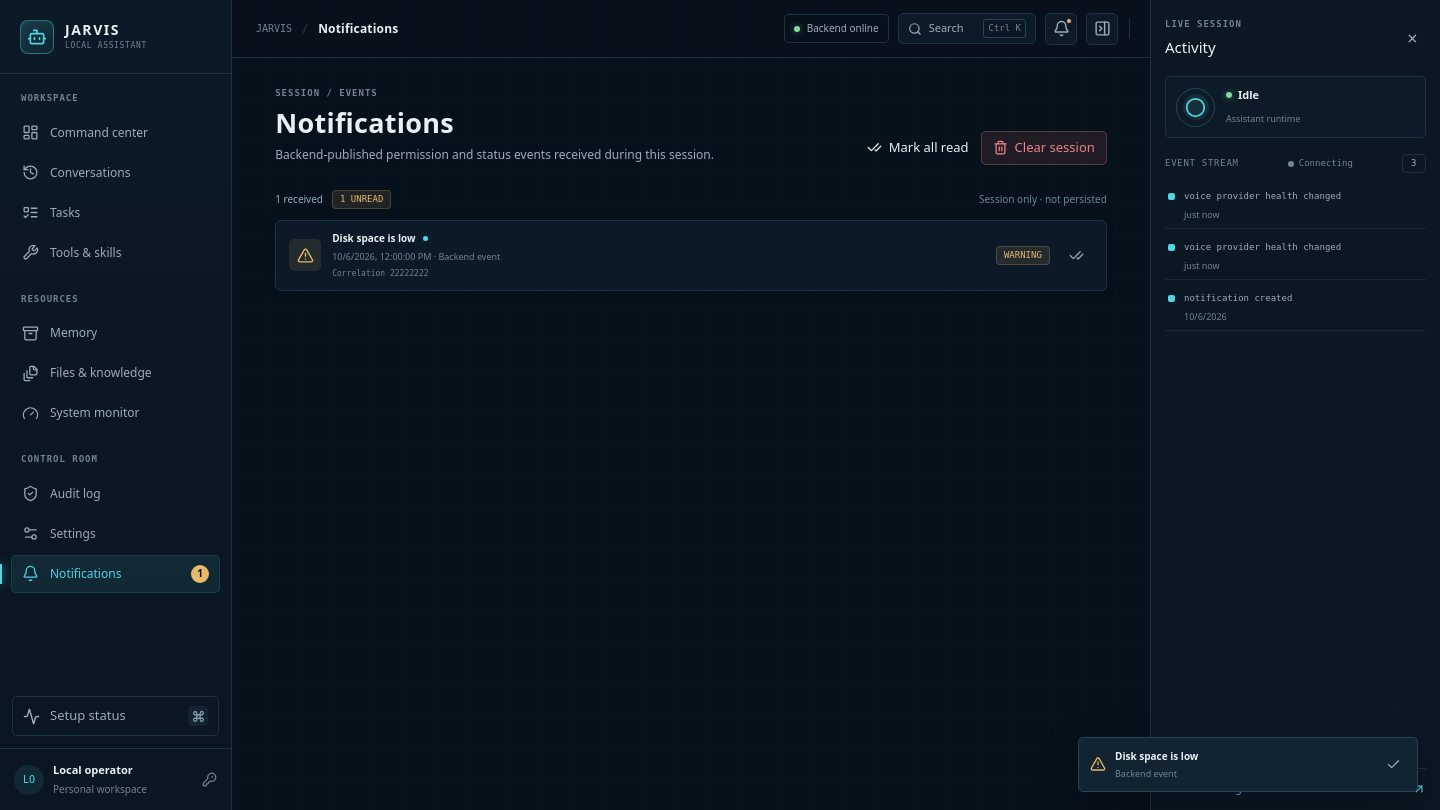
Test case: tools and page controls › creates, reads, and clears session notifications from backend events
Expected: the heading "Notifications" is shown, [275,104,454,140]
Expected: the text "Disk space is low" is shown 2 times, [332,231,416,246]; [1115,748,1198,762]
Click the button "Mark all read".
click(918, 148)  # box [855,131,981,165]
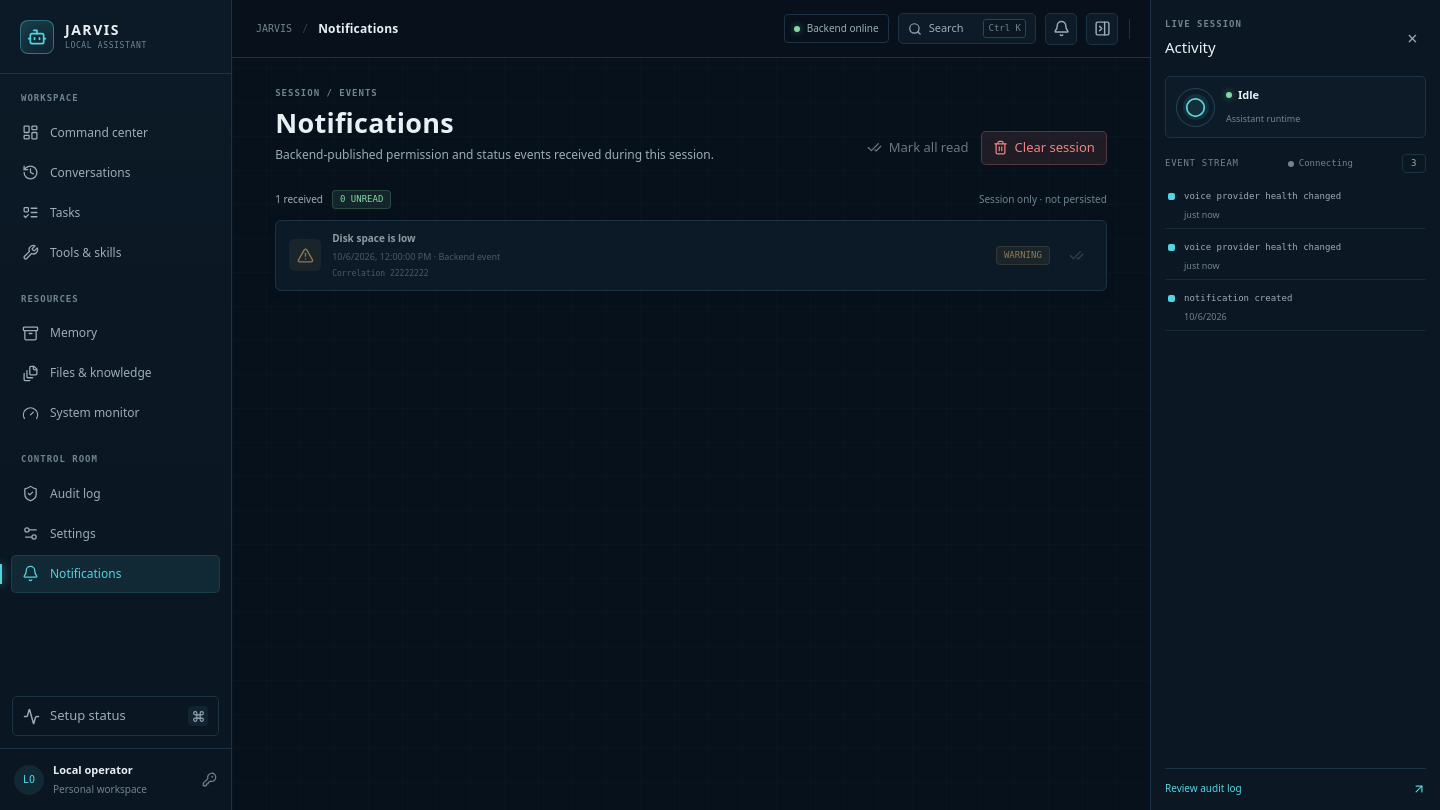
Expected: the button "Mark all read" is disabled, [855,131,981,165]
Click the button "Clear session".
click(1044, 148)  # box [981,131,1107,165]
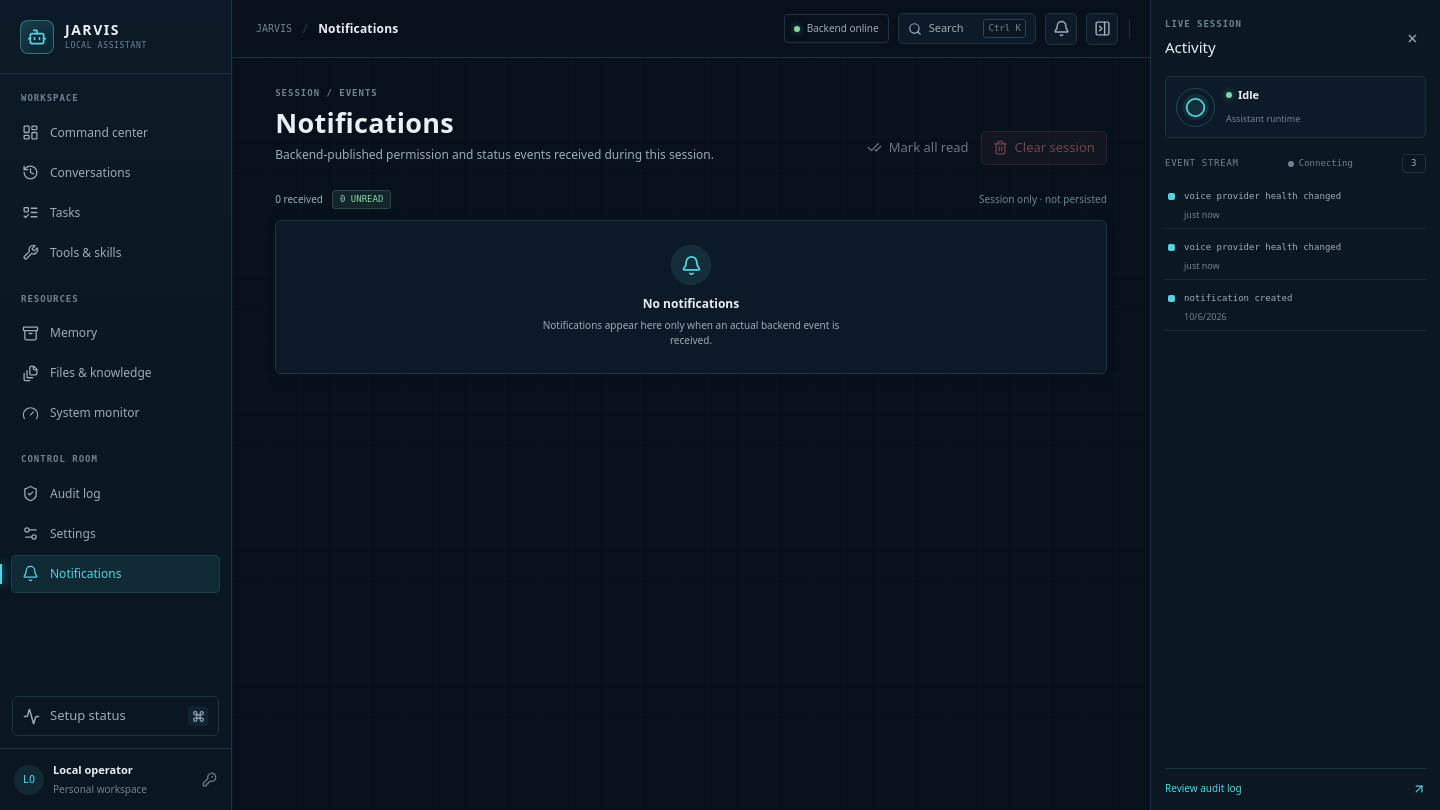
Expected: the heading "No notifications" is shown, [643,295,739,313]
